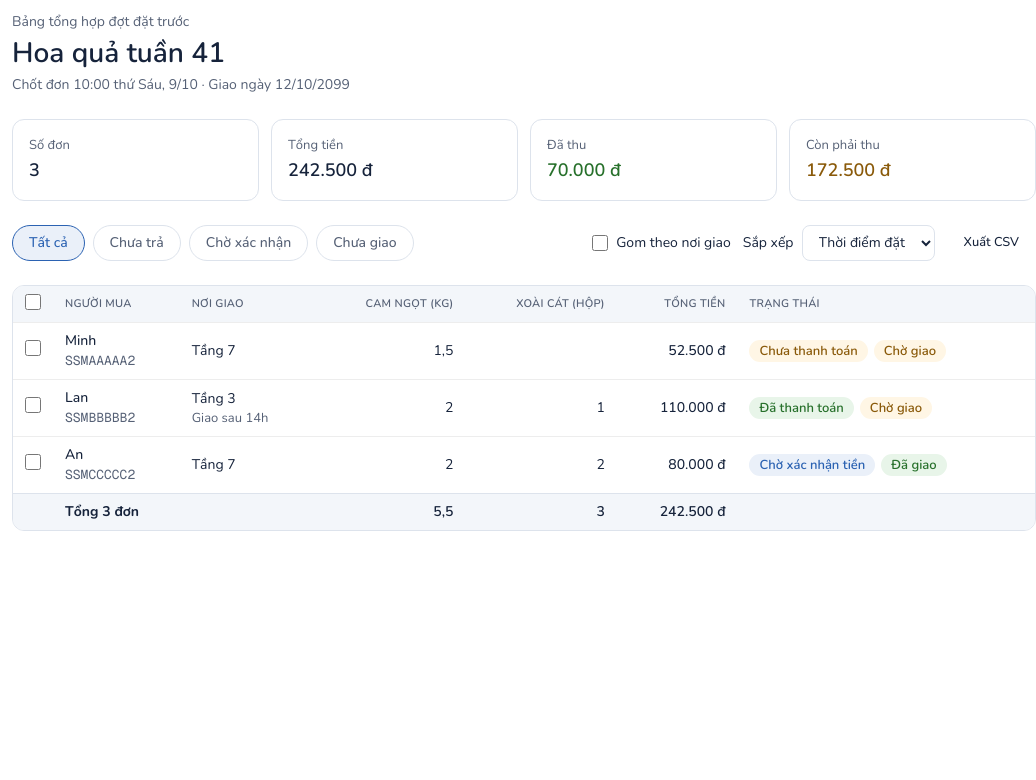
Test: CampaignSummary › selects every visible order, confirms payment and reports which failed
This screenshot has width=1036, height=780.
expect the row "Minh SSMAAAAA2 Tầng 7 1,5 52.500 đ Chưa thanh toán Chờ giao" is shown: met, box x1=13 y1=323 x2=1035 y2=380
Click the checkbox named "Chọn tất cả đơn đang hiện" at [33, 302], box x1=25 y1=294 x2=41 y2=310
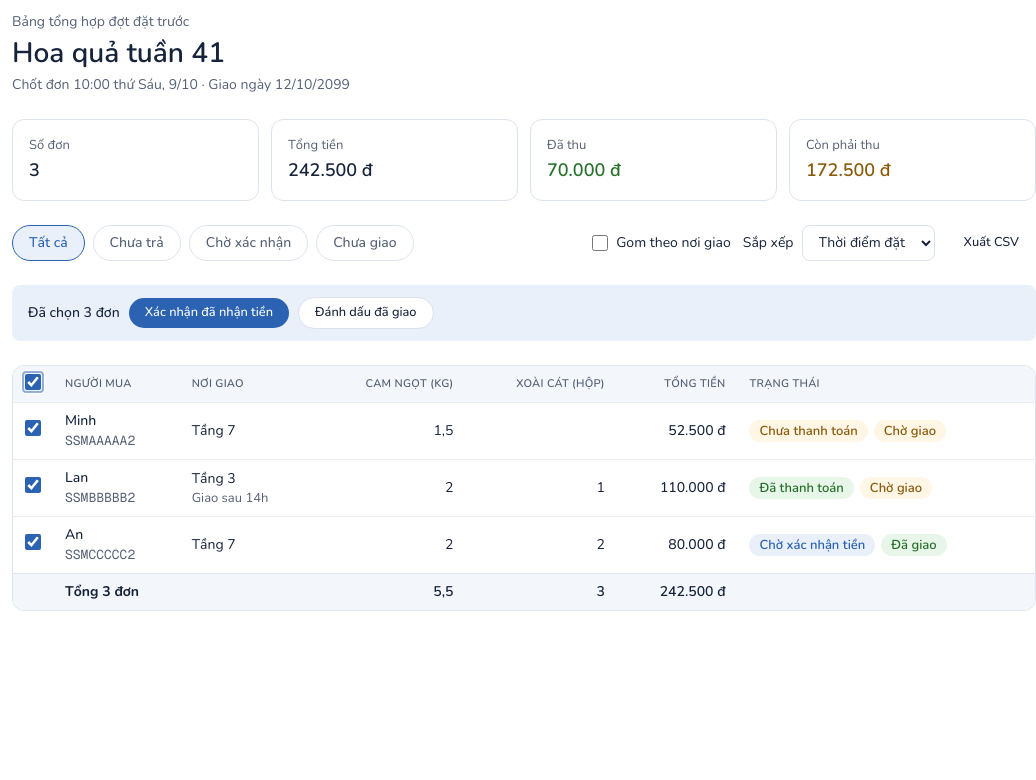
expect the text "Đã chọn 3 đơn" is shown: met, box x1=28 y1=302 x2=120 y2=322
Click the button "Xác nhận đã nhận tiền" at [209, 312], box x1=128 y1=296 x2=290 y2=328
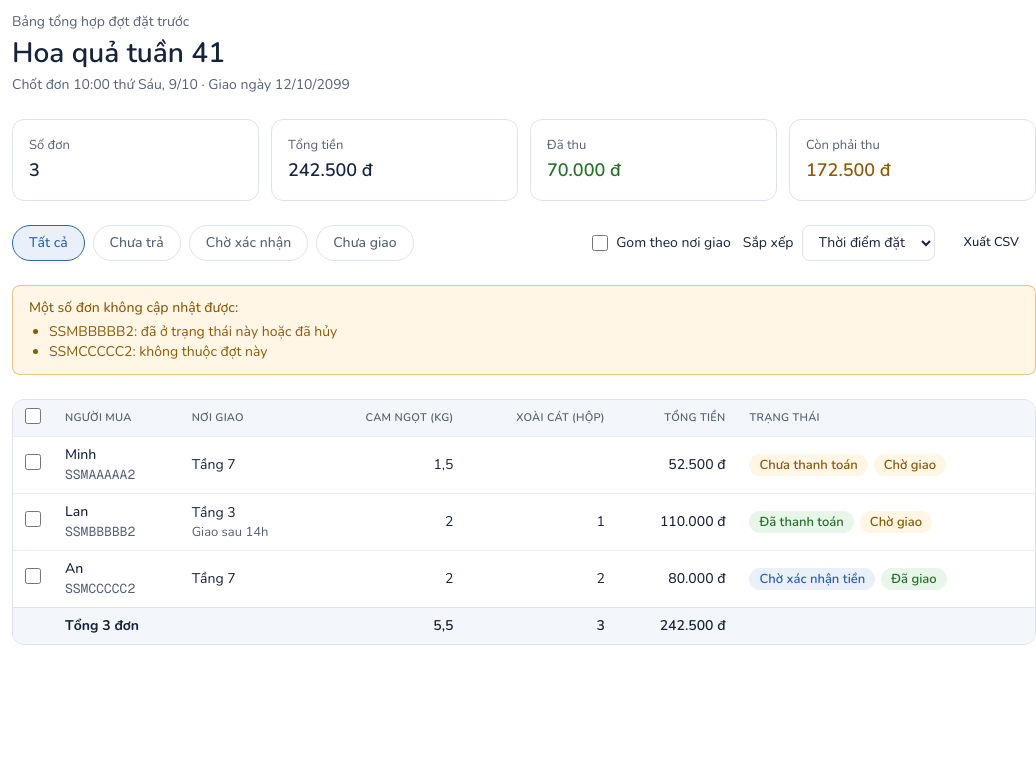
expect the message shows "SSMBBBBB2: đã ở trạng thái này hoặc đã hủy": met, box x1=49 y1=322 x2=337 y2=340
expect the message shows "SSMCCCCC2: không thuộc đợt này": met, box x1=49 y1=342 x2=268 y2=360
expect the text "Đã chọn" is gone: met
